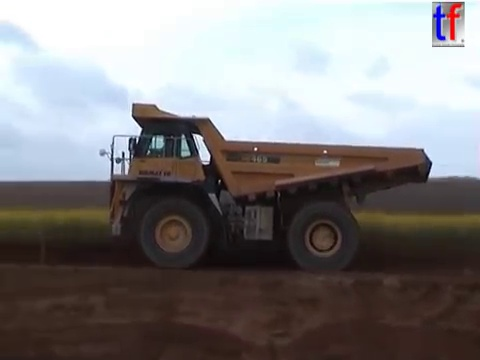truck: (96, 100, 435, 275)
